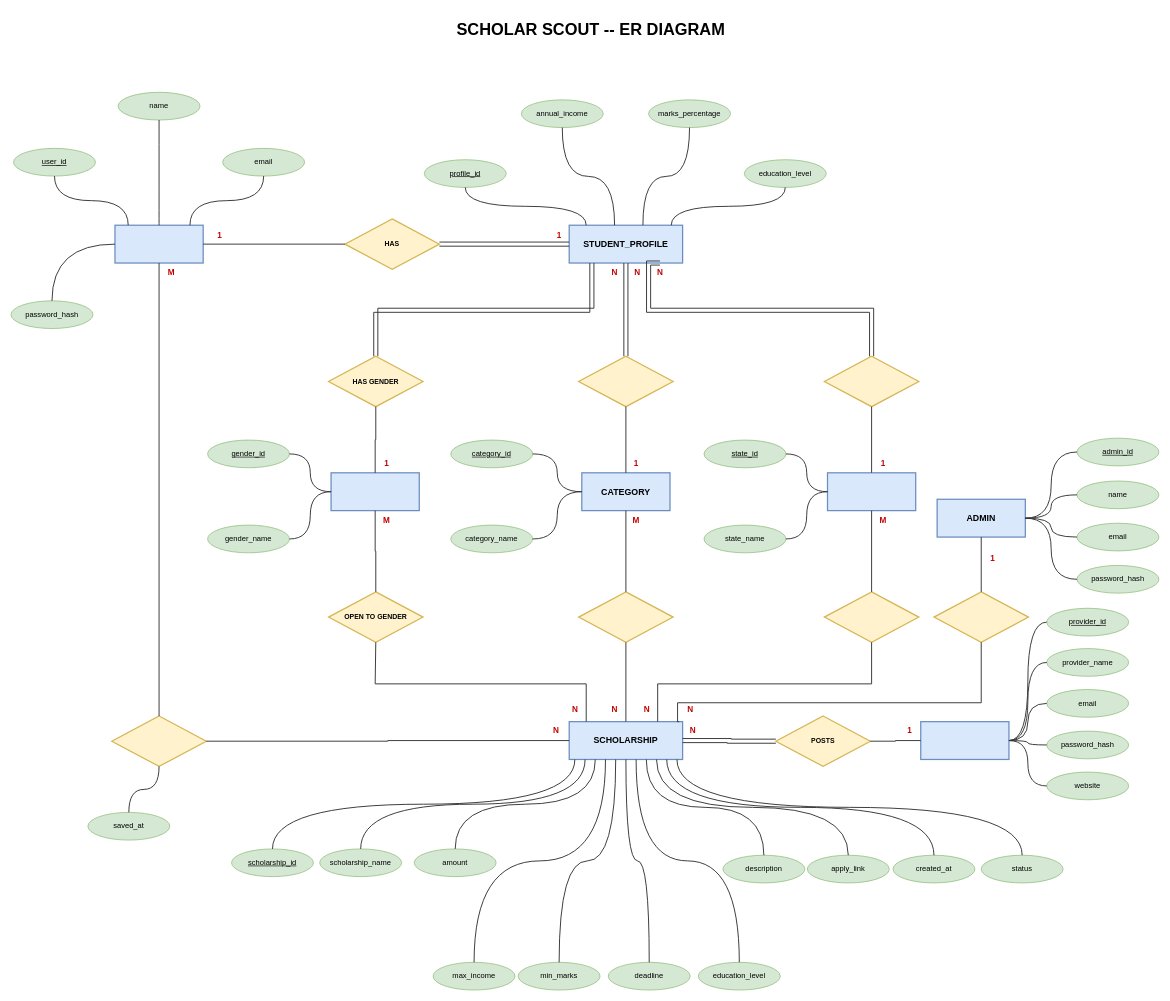
Some shapes in this 1170 by 1001 pixel diagram are drawn without their labels. Here are the shapes that lost their labels. From the top down, the box of each, then its label:
(114, 224, 203, 263): USERS
(578, 355, 673, 407): HAS CATEGORY
(823, 355, 919, 407): LIVES IN
(330, 472, 420, 511): GENDER
(827, 472, 916, 511): STATE
(578, 591, 673, 643): OPEN TO CATEGORY
(823, 591, 919, 643): OPEN TO STATE
(933, 591, 1029, 643): APPROVES
(111, 715, 207, 767): SAVES
(920, 721, 1009, 760): PROVIDER
